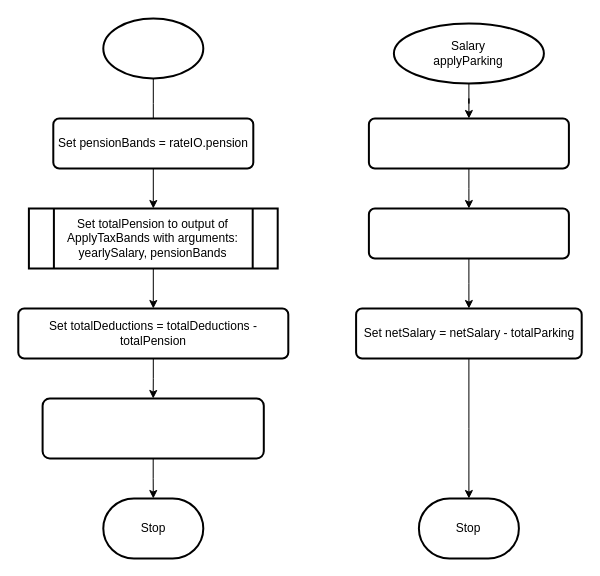
This 600x576 diagram has some shape labels left out. Each missing label, with the box of its shape:
Salary applyPension: (102, 17, 204, 79)
Set netSalary = netSalary - totalPension: (41, 397, 264, 459)
Set totalDeductions = totalDeductions - totalParking: (367, 207, 569, 259)
Set totalParking = rateIO.monthlyParking * 12: (367, 117, 569, 169)
